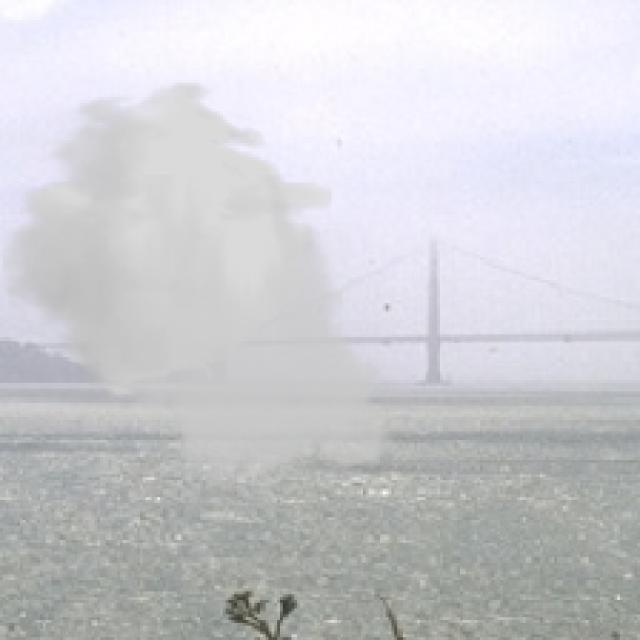Smoke: (2, 80, 408, 494)
